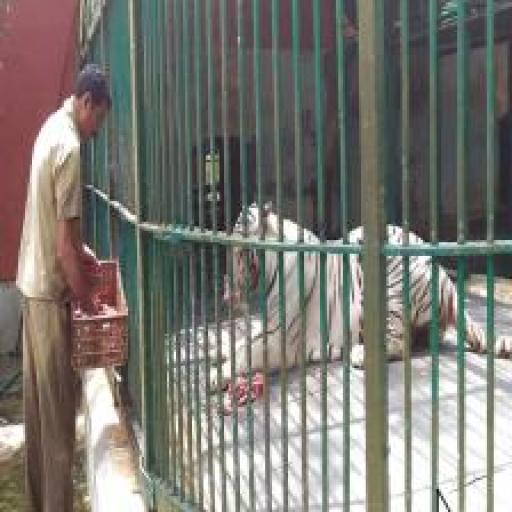Tiger: (203, 199, 512, 394)
